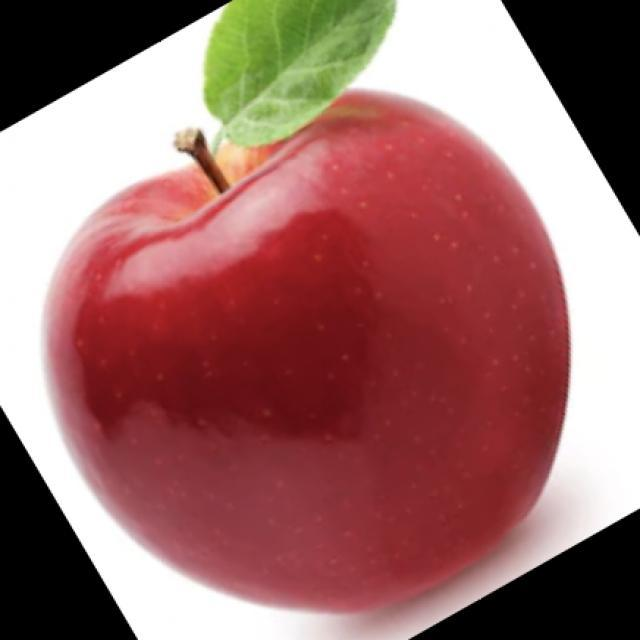Fresh Apple: (65, 98, 593, 640)
